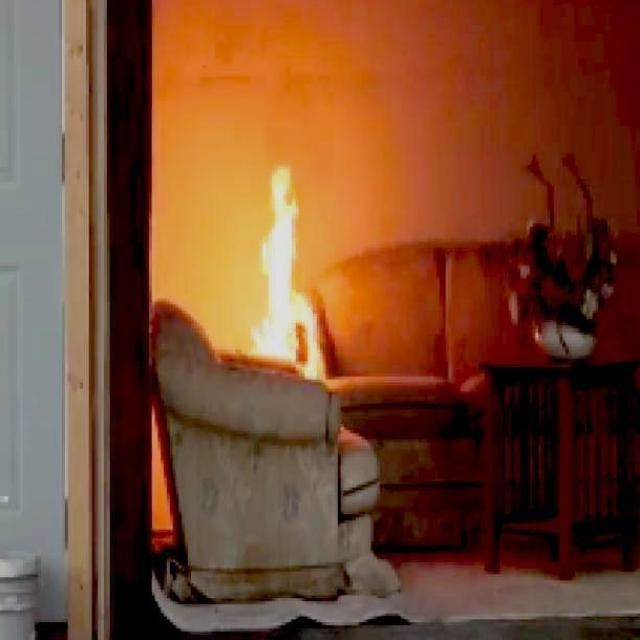smoke: (244, 158, 329, 381)
